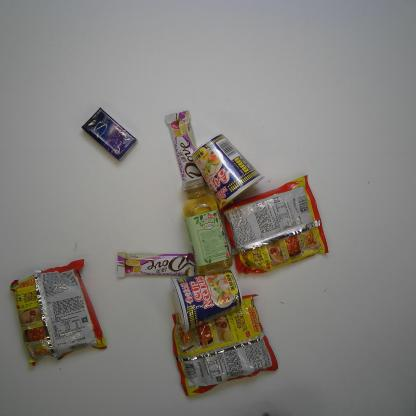Chocolate: (165, 110, 206, 190), (116, 252, 195, 278)
Drink: (180, 175, 233, 276)
Gum: (80, 108, 139, 162)
Instant Noodles: (172, 293, 278, 398), (220, 174, 330, 274), (10, 259, 108, 366), (191, 132, 265, 210), (170, 269, 243, 334)
